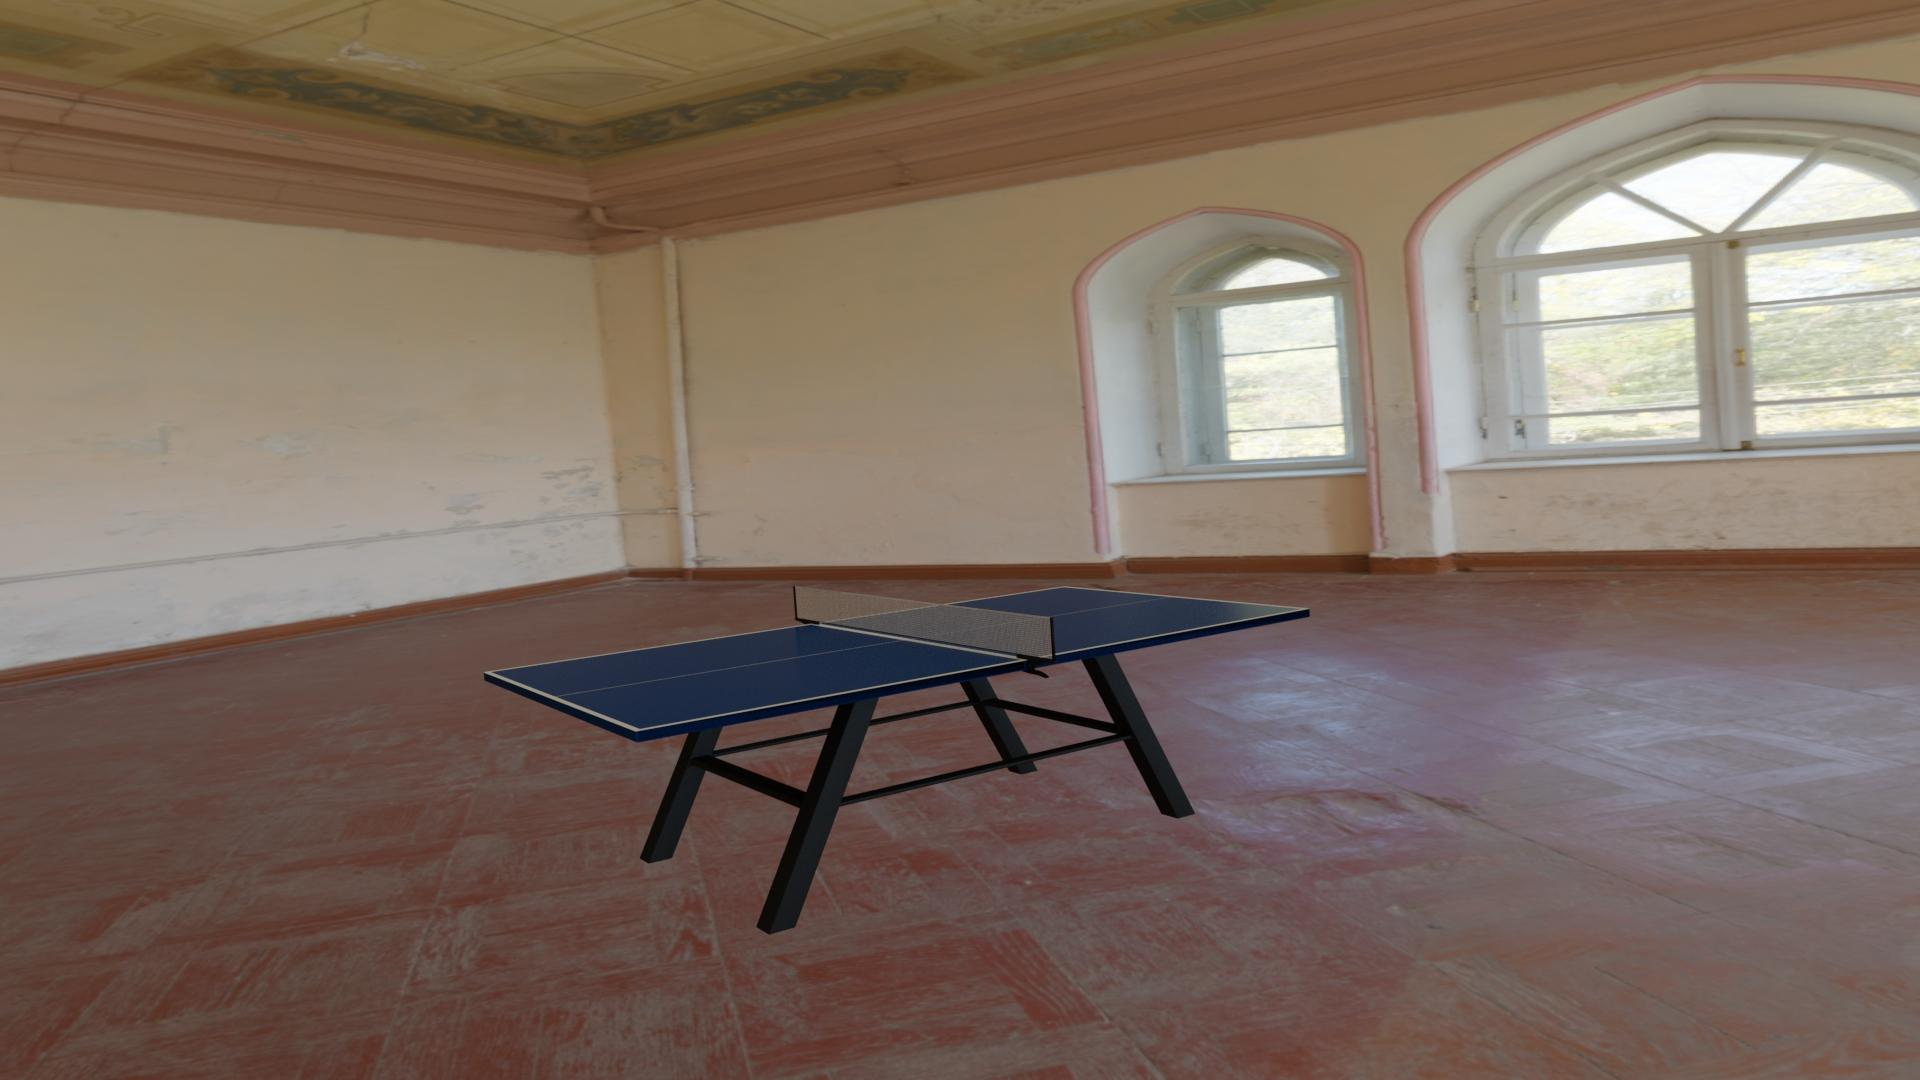table: (491, 587, 1303, 729)
